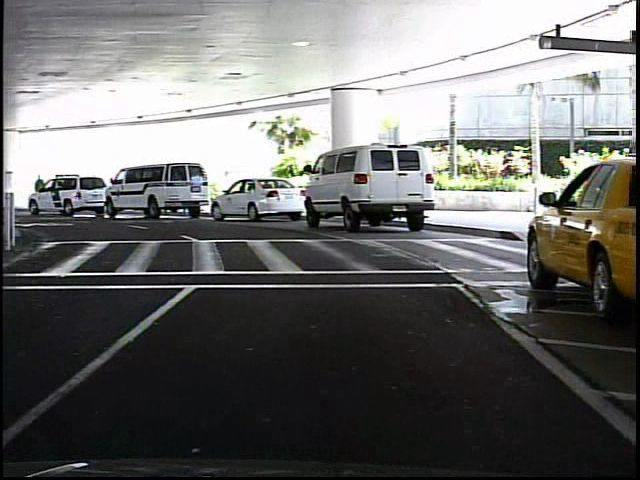person: (34, 171, 51, 209)
